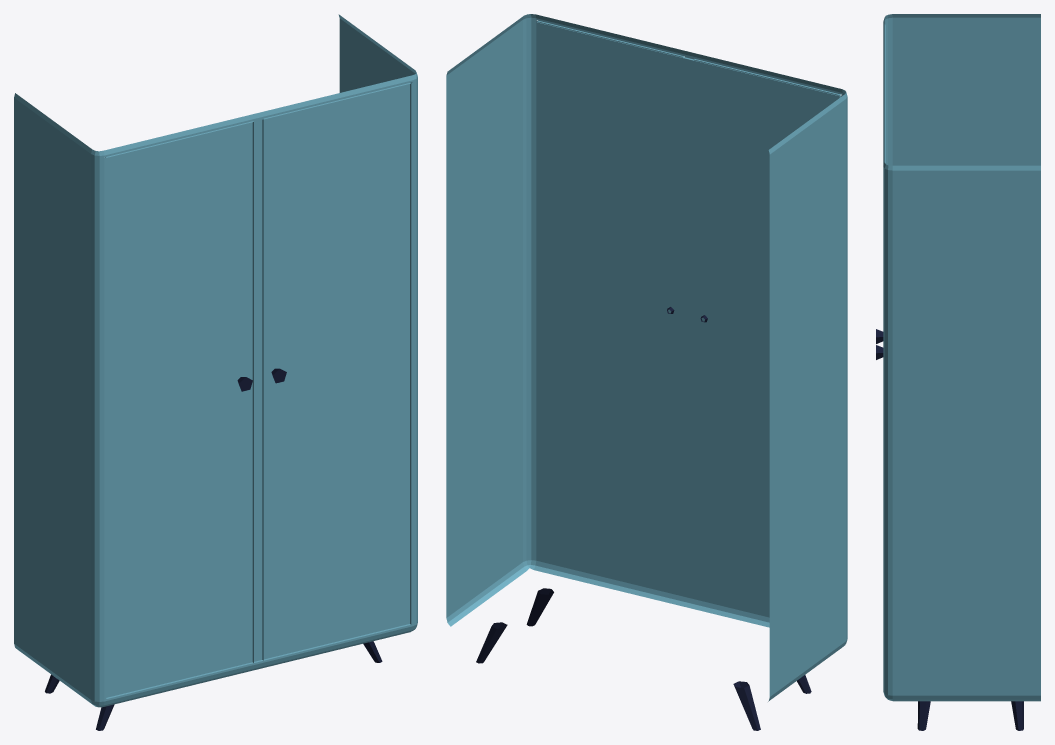
Rendered from gardirop.fbx.
3 renders of one model, left to right at view 1: azimuth 30°, elevation 25°; view 2: azimuth 150°, elevation 25°; view 3: azimuth 270°, elevation 25°, orthographic. The views are drawn at different scales.
Visible parts, largest first — view 1: gardirop; view 2: gardirop; view 3: gardirop.
Boxes of the visible parts, bbox=[...] form: gardirop: bbox=[14, 14, 417, 730]; gardirop: bbox=[446, 14, 847, 730]; gardirop: bbox=[876, 14, 1040, 730].
Bounding box in the file's own units: 112 × 196 × 51.16.
